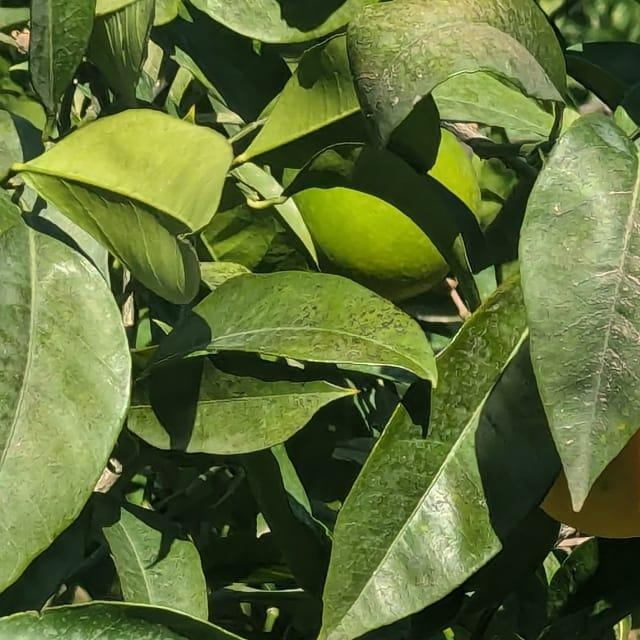orange: (289, 111, 499, 297), (509, 298, 640, 562)
